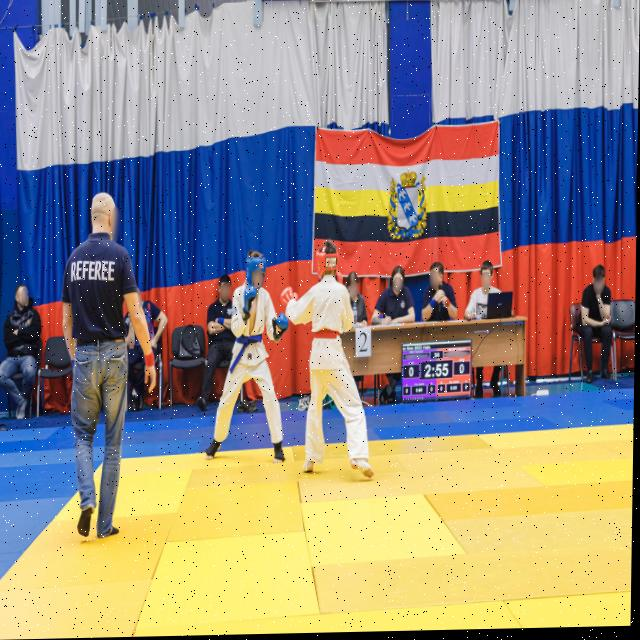Person: (71, 176, 144, 553), (224, 246, 286, 482), (309, 235, 352, 487), (0, 278, 50, 440), (200, 274, 242, 421), (576, 259, 621, 387), (465, 256, 513, 333), (377, 264, 425, 333), (422, 256, 460, 331), (343, 270, 370, 335)
